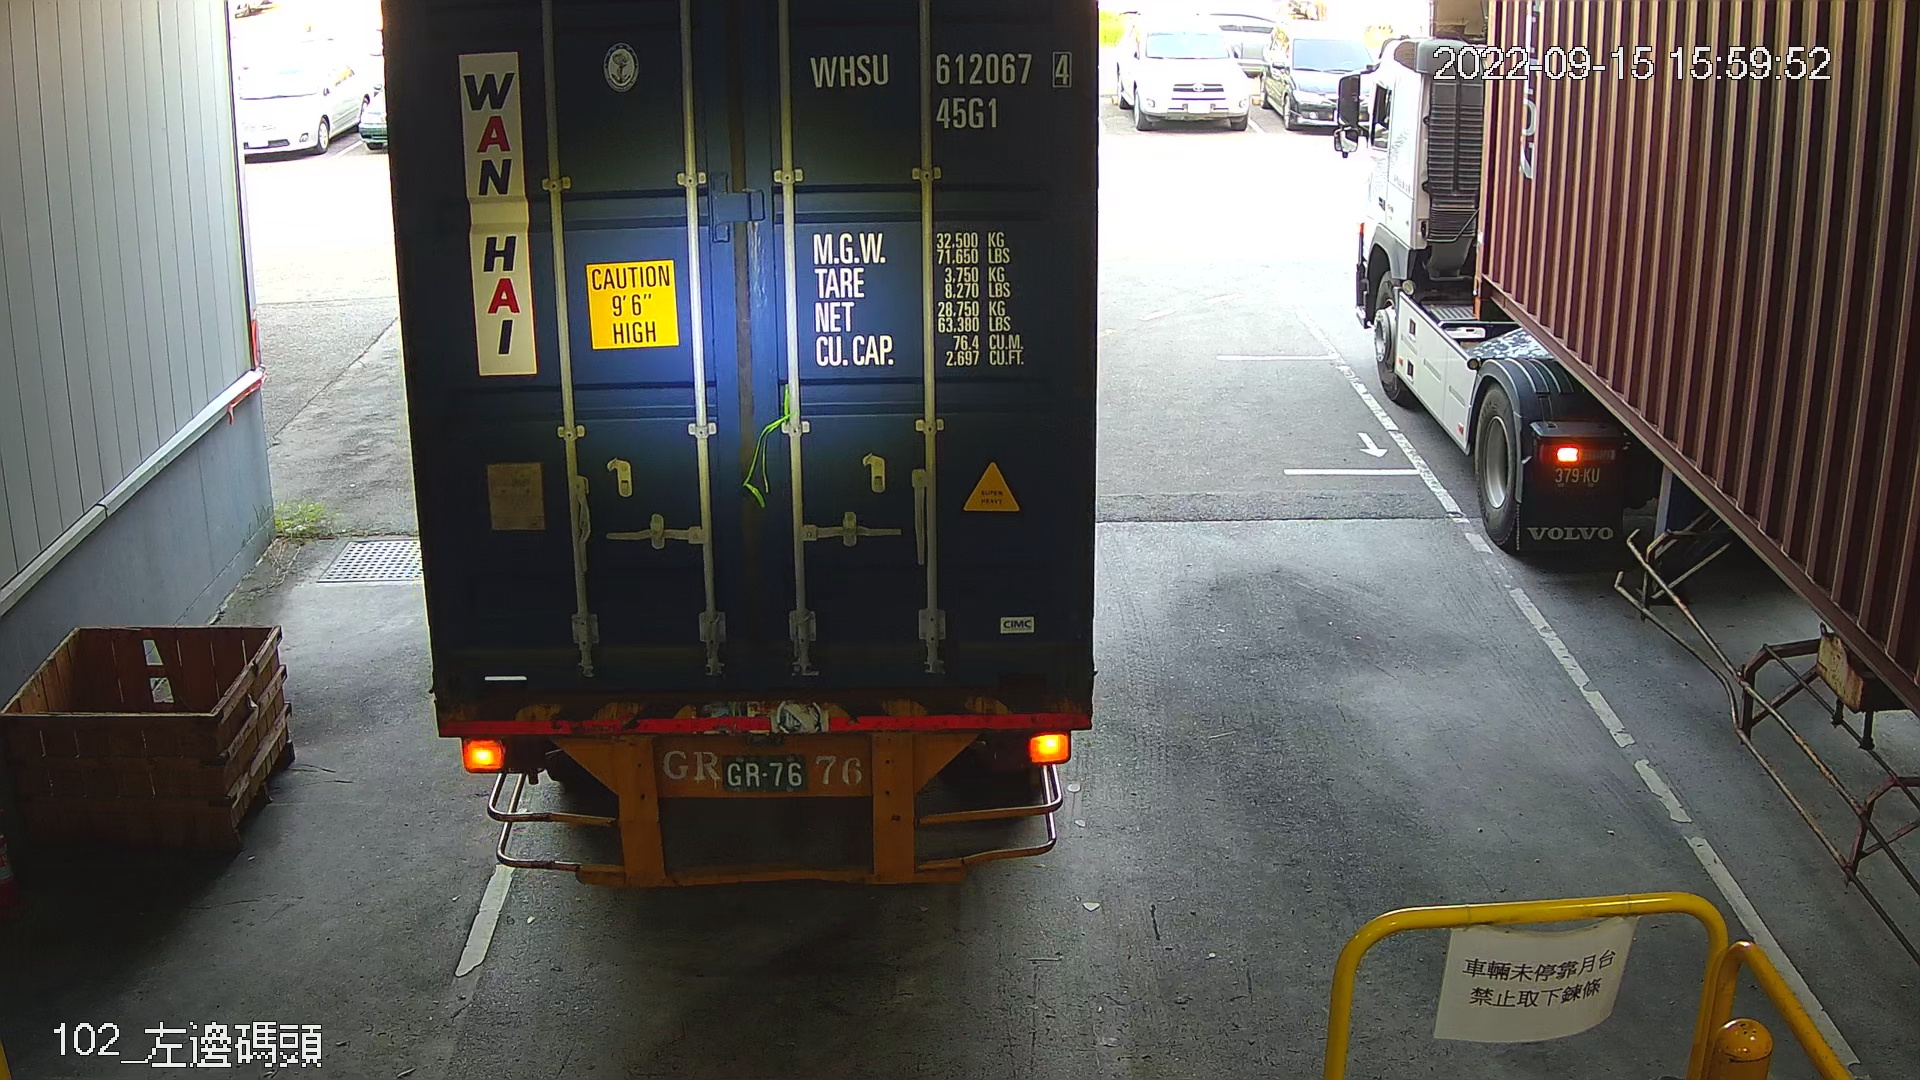container: (798, 41, 1084, 138)
